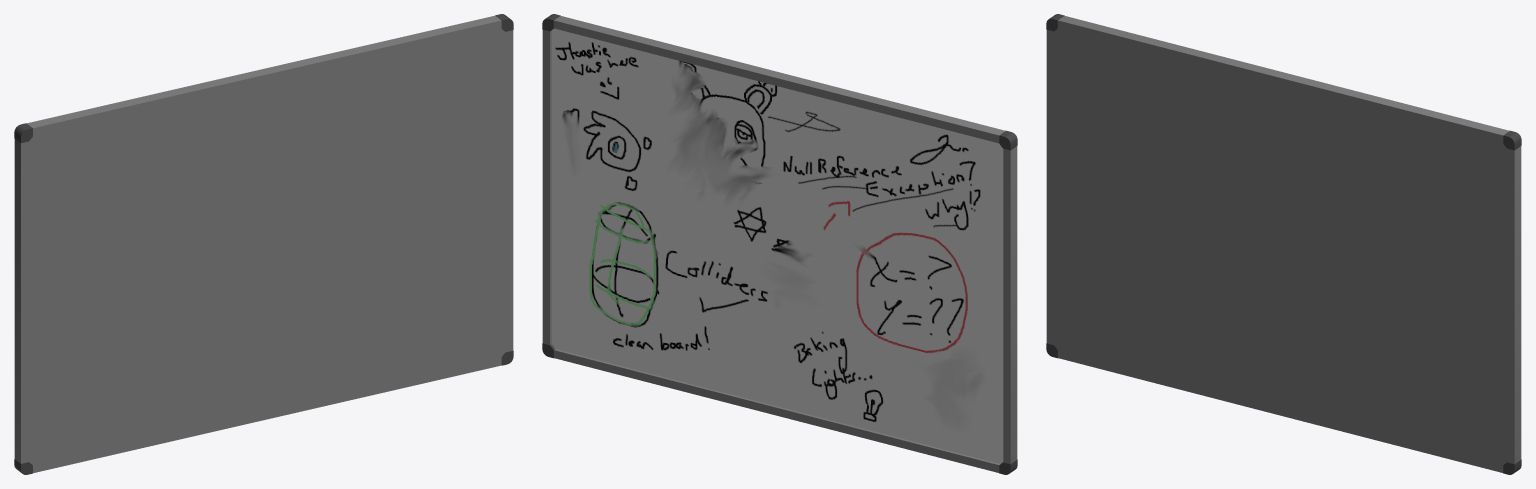
Rendered from pizarraV.glb.
The picture shows the model from 3 angles, left to right: view 1: azimuth 30°, elevation 25°; view 2: azimuth 150°, elevation 25°; view 3: azimuth 330°, elevation 25°; orthographic projection. The views are drawn at different scales.
Parts seen in each view (by area): view 1: Whiteboard; view 2: Whiteboard; view 3: Whiteboard.
Part boxes in pixels (x1,y1,x2,y2): Whiteboard: (14,14,513,474); Whiteboard: (542,14,1017,474); Whiteboard: (1046,14,1521,474).
Bounding box in the file's own units: 2.06 × 1.4 × 0.1023.
Materials: 1 (1 with a texture image).
